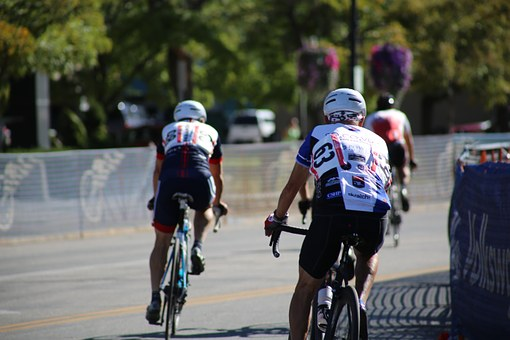bikerider: (263, 83, 398, 340), (142, 98, 228, 337)
